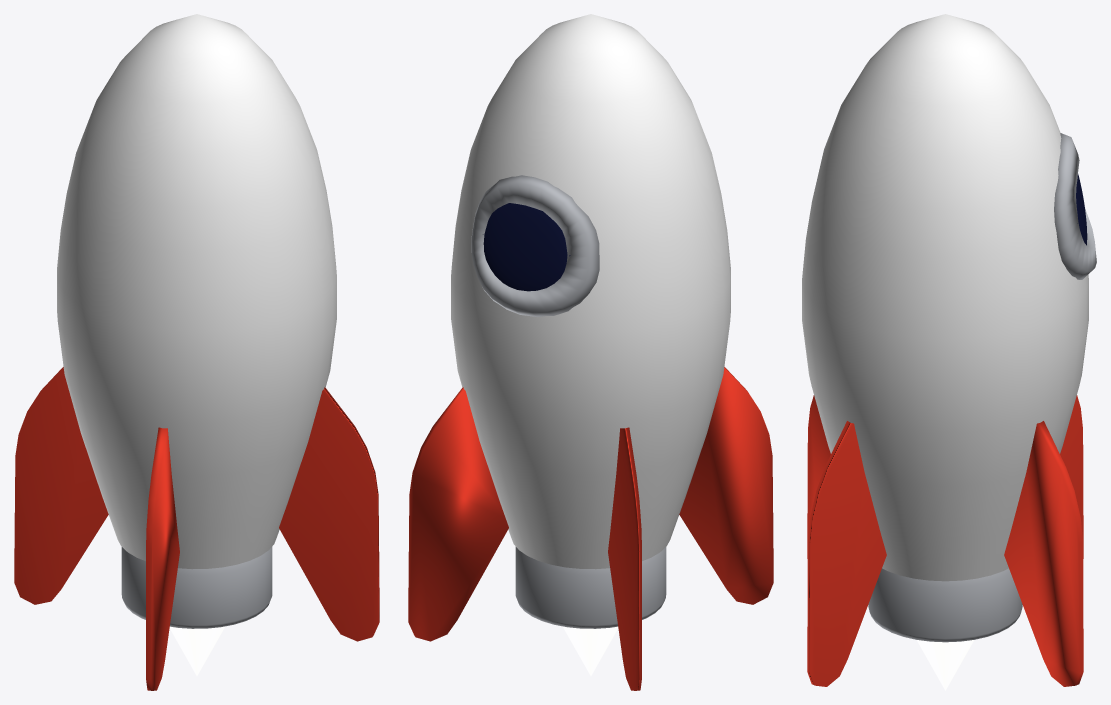
Rendered from rocket-expension.glb.
3 renders of one model, left to right at view 1: azimuth 30°, elevation 25°; view 2: azimuth 150°, elevation 25°; view 3: azimuth 270°, elevation 25°, orthographic. The views are drawn at different scales.
Visible parts, largest first — view 1: main, ailes, base, Cone; view 2: main, ailes, windowCorner, base, window, Cone; view 3: main, ailes, base, windowCorner, Cone, window.
Part boxes in pixels (bbox=[...]): main: bbox=[57, 14, 336, 569]; ailes: bbox=[14, 367, 379, 690]; base: bbox=[121, 547, 272, 628]; Cone: bbox=[169, 626, 225, 675]; main: bbox=[451, 14, 730, 569]; ailes: bbox=[408, 367, 773, 690]; windowCorner: bbox=[471, 175, 599, 317]; base: bbox=[515, 547, 666, 628]; window: bbox=[483, 203, 570, 291]; Cone: bbox=[562, 626, 618, 675]; main: bbox=[802, 14, 1088, 581]; ailes: bbox=[807, 395, 1083, 686]; base: bbox=[868, 568, 1022, 642]; windowCorner: bbox=[1054, 133, 1096, 279]; Cone: bbox=[917, 640, 973, 690]; window: bbox=[1076, 174, 1087, 245].
Bounding box in the file's own units: 2.69 × 7 × 2.76.
